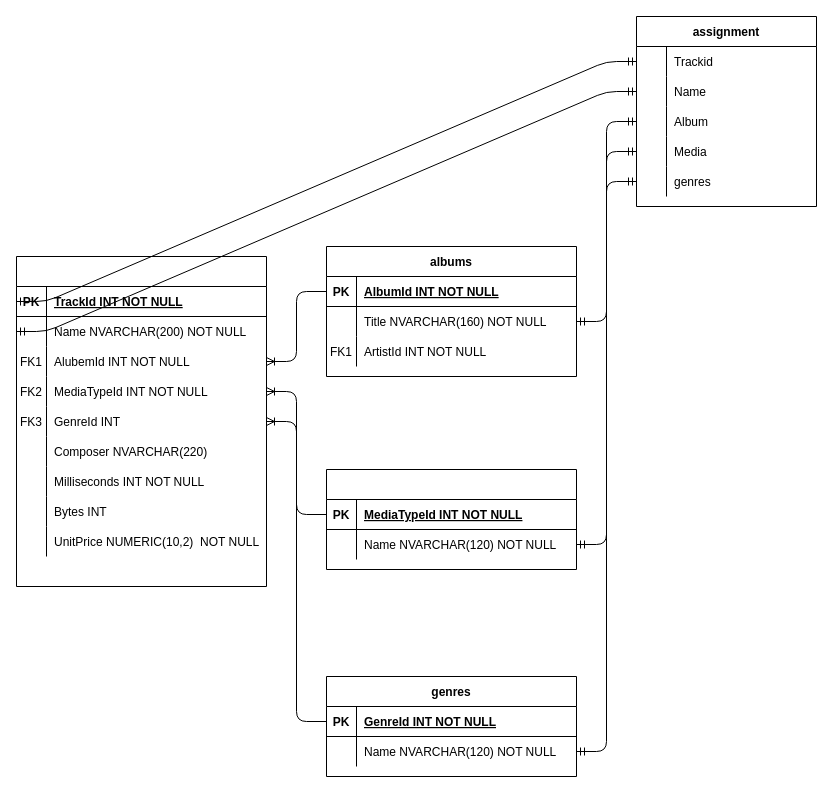
This 833x793 diagram has some shape labels left out. Here are the shapes that lost their labels. From the top down, the box of each, then its label:
(16, 256, 266, 586): tracks
(326, 468, 576, 570): media_types
